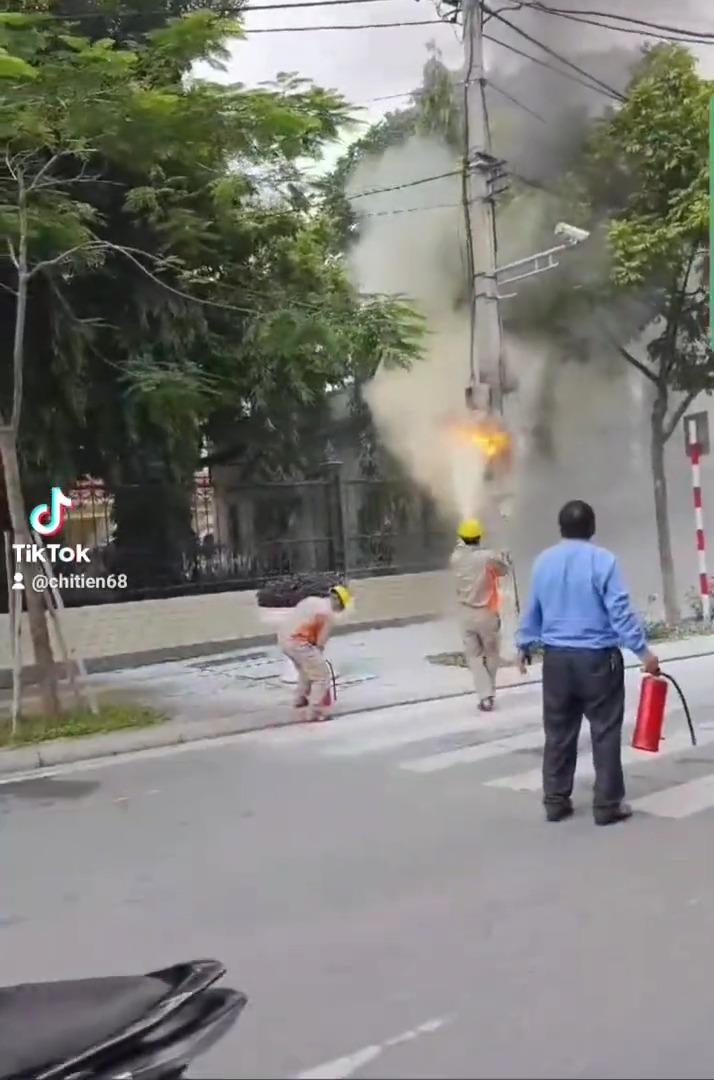FireExtinguisher: (629, 653, 693, 762)
not: (685, 425, 714, 615), (272, 596, 338, 659), (430, 415, 533, 455), (471, 553, 508, 619)
